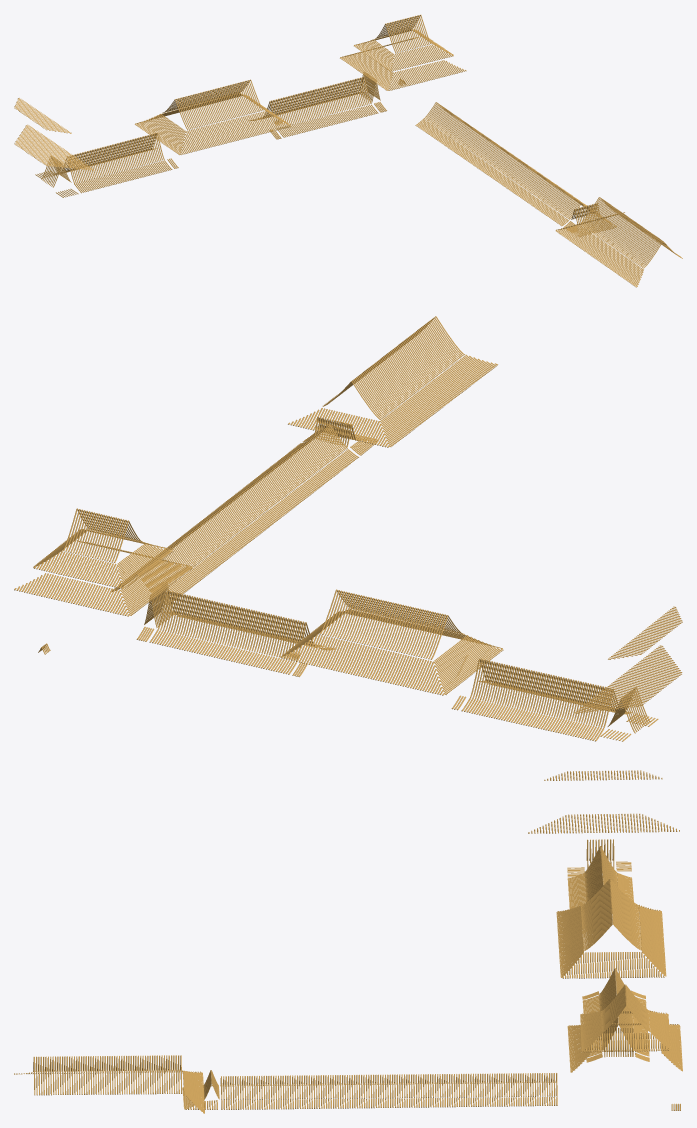
File: roof-tiles-4-2.glb
3 views of the same model, one above another, from view 1: azimuth 30°, elevation 25°; view 2: azimuth 150°, elevation 25°; view 3: azimuth 270°, elevation 25° (orthographic). The views are drawn at different scales.
Parts seen in each view (by area): view 1: roof-tiles-4-2_micro_Roof_Glazed_Ochre; view 2: roof-tiles-4-2_micro_Roof_Glazed_Ochre; view 3: roof-tiles-4-2_micro_Roof_Glazed_Ochre.
Boxes of the visible parts, x1=… form: roof-tiles-4-2_micro_Roof_Glazed_Ochre: x1=14, y1=14, x2=682, y2=287; roof-tiles-4-2_micro_Roof_Glazed_Ochre: x1=14, y1=316, x2=682, y2=741; roof-tiles-4-2_micro_Roof_Glazed_Ochre: x1=14, y1=770, x2=682, y2=1113.
Size of the model in its own units: 0.9972 by 0.1908 by 1.12.
